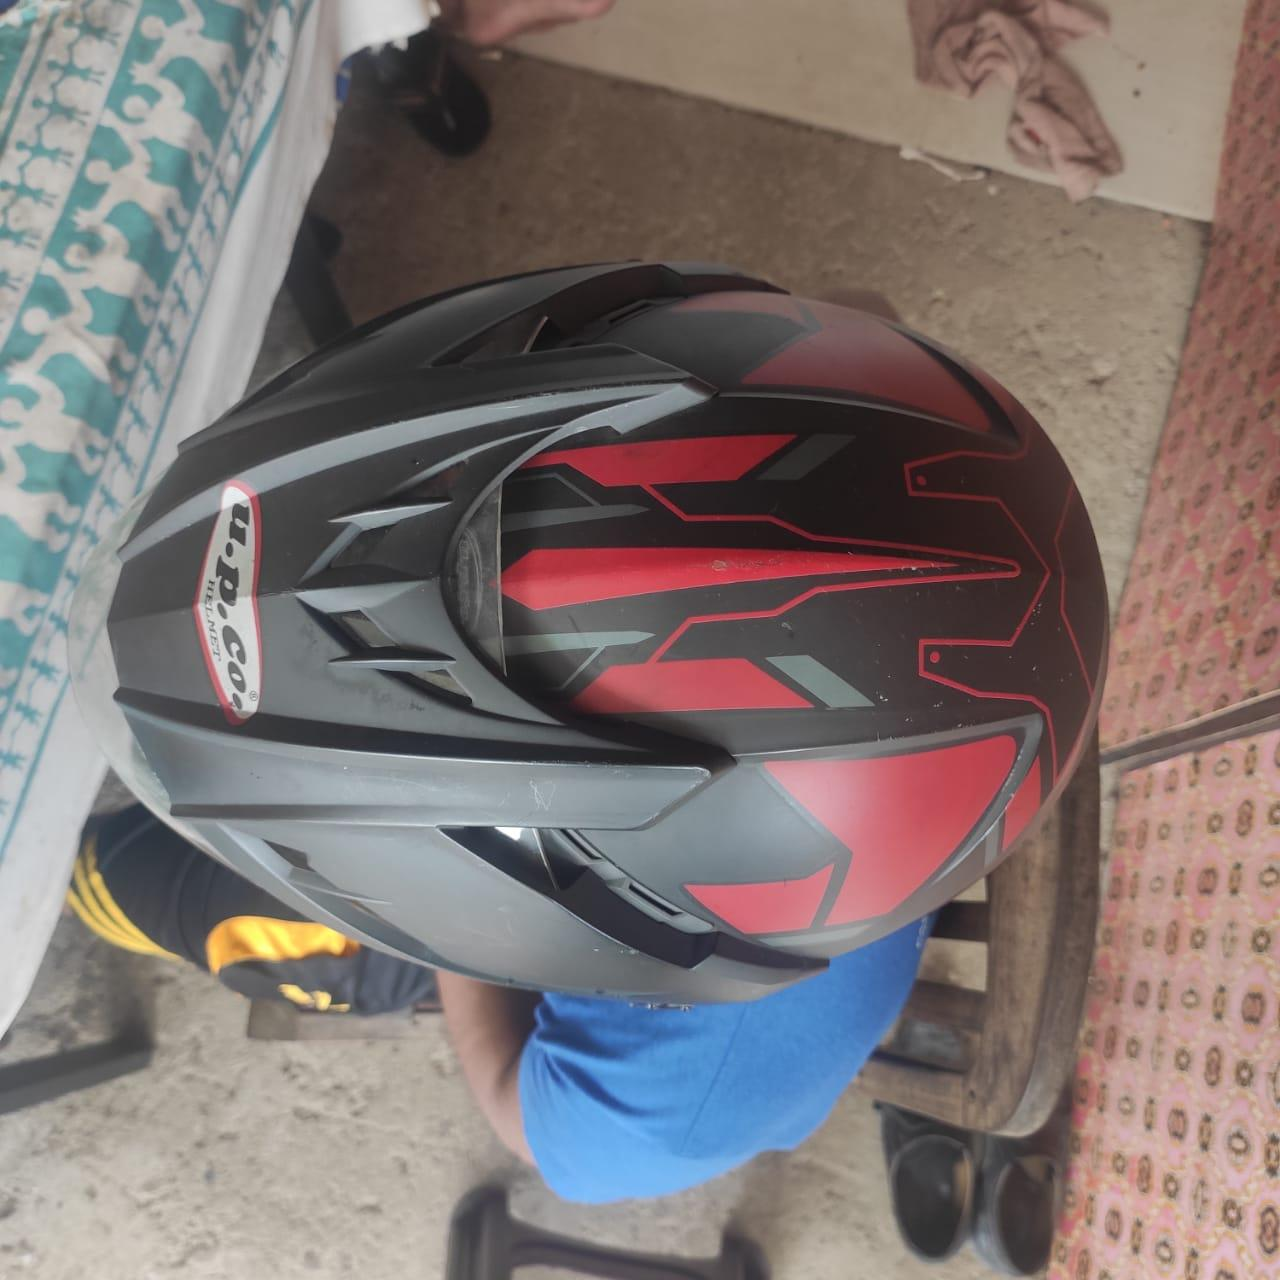helmet: (64, 256, 1121, 1007)
